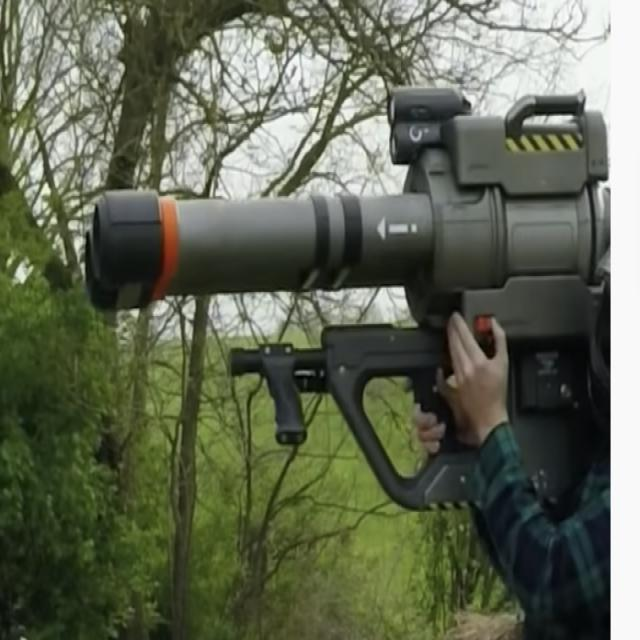bazooka: (90, 187, 401, 315)
